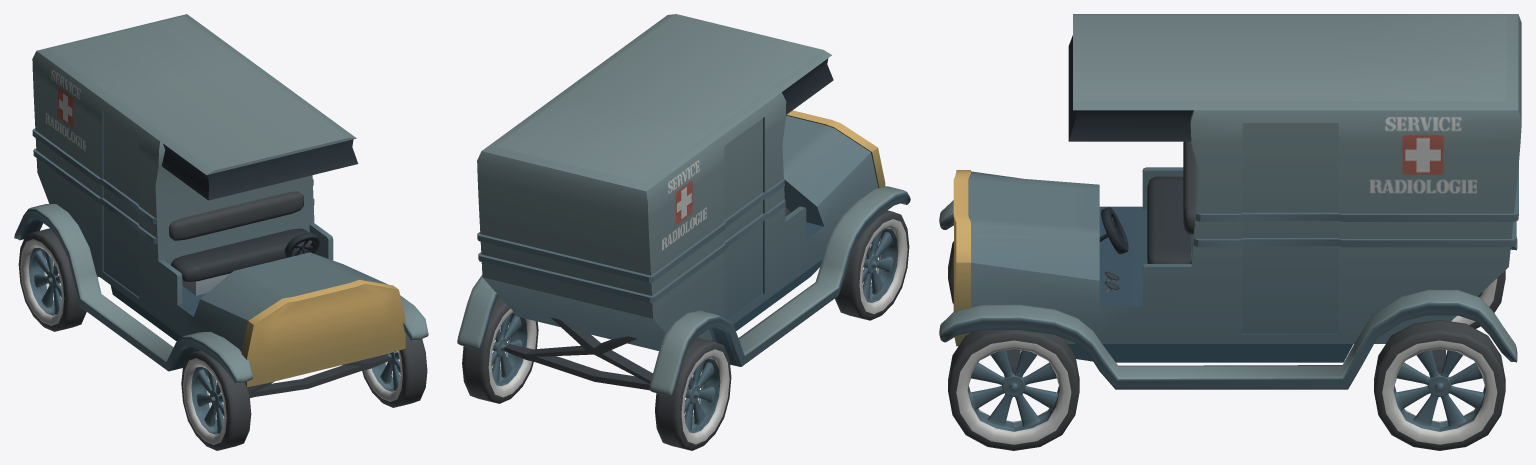
Rendered from PetiteCurie.fbx.
The picture shows the model from 3 angles, left to right: view 1: azimuth 30°, elevation 25°; view 2: azimuth 150°, elevation 25°; view 3: azimuth 270°, elevation 25°; orthographic projection. The views are drawn at different scales.
Parts seen in each view (by area): view 1: Carosserie, PareBoue, Interieur, RoueAvantGauche, RouesArrieres, RoueAvantDroit, CarosserieDetails, SuspensionAvant, Volant; view 2: Carosserie, PareBoue, RouesArrieres, RoueAvantGauche, CarosserieDetails, SuspensionArriere; view 3: Carosserie, PareBoue, RouesArrieres, RoueAvantDroit, CarosserieDetails, Interieur, Volant.
Part boxes in pixels (x1,y1,x2,y2): Carosserie: (32,14,405,387); PareBoue: (14,204,428,383); Interieur: (169,191,311,295); RoueAvantGauche: (181,350,251,450); RouesArrieres: (18,228,86,331); RoueAvantDroit: (362,333,427,407); CarosserieDetails: (32,128,314,244); SuspensionAvant: (221,354,389,397); Volant: (284,232,319,257); Carosserie: (477,14,885,350); PareBoue: (457,186,910,395); RouesArrieres: (462,297,731,450); RoueAvantGauche: (835,210,909,320); CarosserieDetails: (477,178,785,302); SuspensionArriere: (504,317,688,390); Carosserie: (953,14,1521,362); PareBoue: (939,200,1517,389); RouesArrieres: (1374,270,1505,450); RoueAvantDroit: (948,330,1079,450); CarosserieDetails: (1193,164,1518,247); Interieur: (1105,141,1195,292); Volant: (1099,207,1128,254).
Bounding box in the file's own units: 99.99 × 121 × 194.
